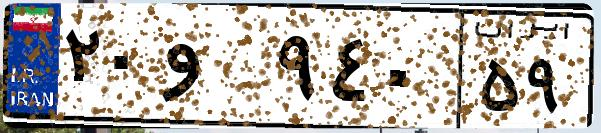0: (385, 28, 445, 110), (110, 28, 158, 98)
2: (57, 26, 110, 100)
4: (330, 28, 385, 110)
5: (475, 38, 525, 113)
9: (270, 28, 330, 110), (525, 38, 570, 115)
و: (158, 20, 270, 120)
